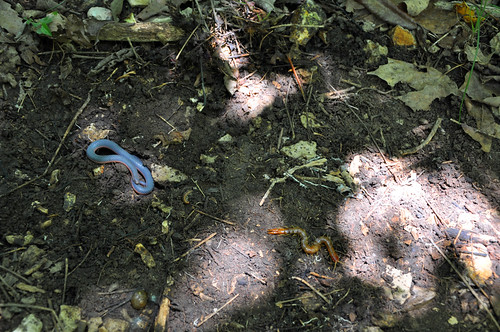animal: (75, 131, 164, 202)
dirt: (1, 103, 494, 332)
vegetation: (5, 7, 500, 143)
